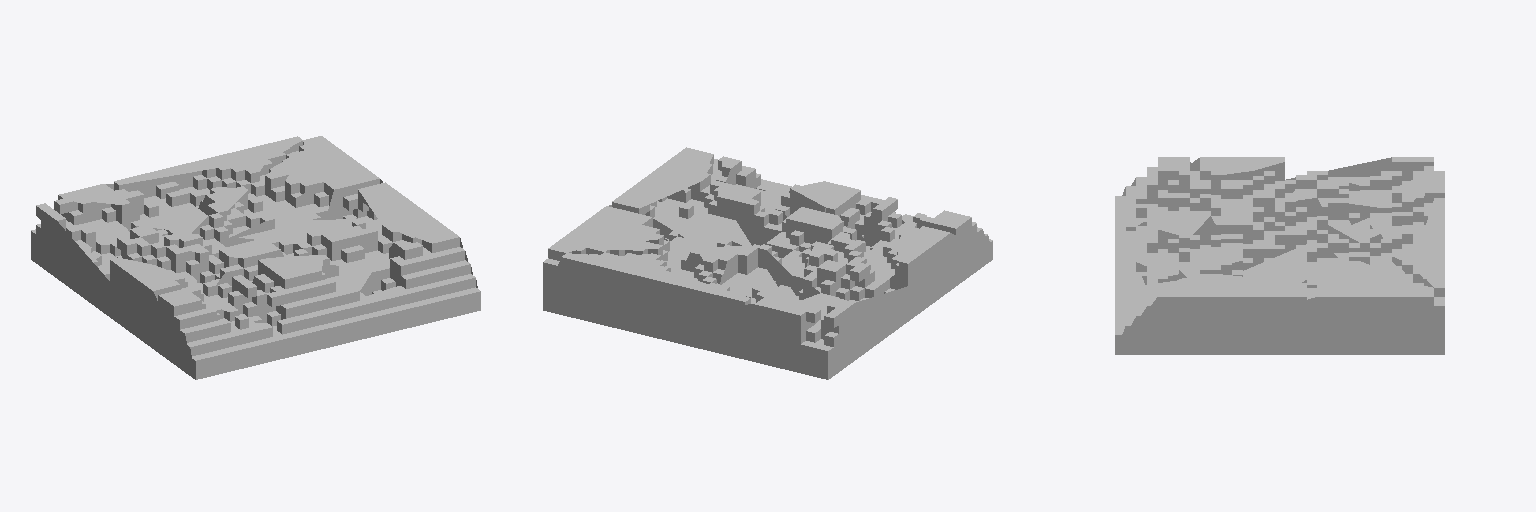
The model's file is Floor_Water_Broken.obj.
3 views of the same model, side by side, from view 1: azimuth 30°, elevation 25°; view 2: azimuth 150°, elevation 25°; view 3: azimuth 270°, elevation 25° (orthographic).
Visible parts, largest first — view 1: Floor_Water_Broken_Floor_Water_Broken.001; view 2: Floor_Water_Broken_Floor_Water_Broken.001; view 3: Floor_Water_Broken_Floor_Water_Broken.001.
Part boxes in pixels (x1,y1,x2,y2): Floor_Water_Broken_Floor_Water_Broken.001: (31,136,480,379); Floor_Water_Broken_Floor_Water_Broken.001: (543,147,992,379); Floor_Water_Broken_Floor_Water_Broken.001: (1115,157,1444,354).
Bounding box in the file's own units: 3.1 × 0.6 × 3.1.